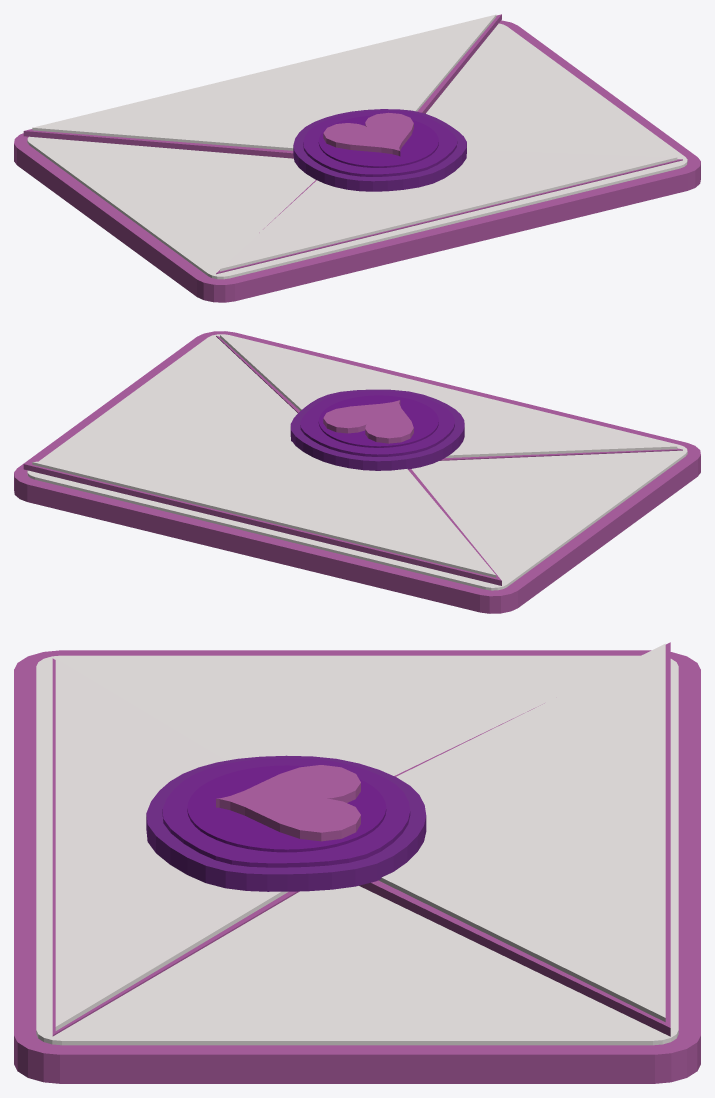
Rendered from book_envelope.fbx.
The picture shows the model from 3 angles, top to bottom: view 1: azimuth 30°, elevation 25°; view 2: azimuth 150°, elevation 25°; view 3: azimuth 270°, elevation 25°; orthographic projection. The views are drawn at different scales.
Visible parts, largest first — view 1: book_envelope_livro; view 2: book_envelope_livro; view 3: book_envelope_livro.
Boxes of the visible parts, x1,y1,x2,y2 form: book_envelope_livro: [14, 14, 700, 302]; book_envelope_livro: [14, 331, 700, 613]; book_envelope_livro: [14, 642, 700, 1083].
Size of the model in its own units: 2.98 by 0.285 by 2.14.
1 material, 1 textured.
